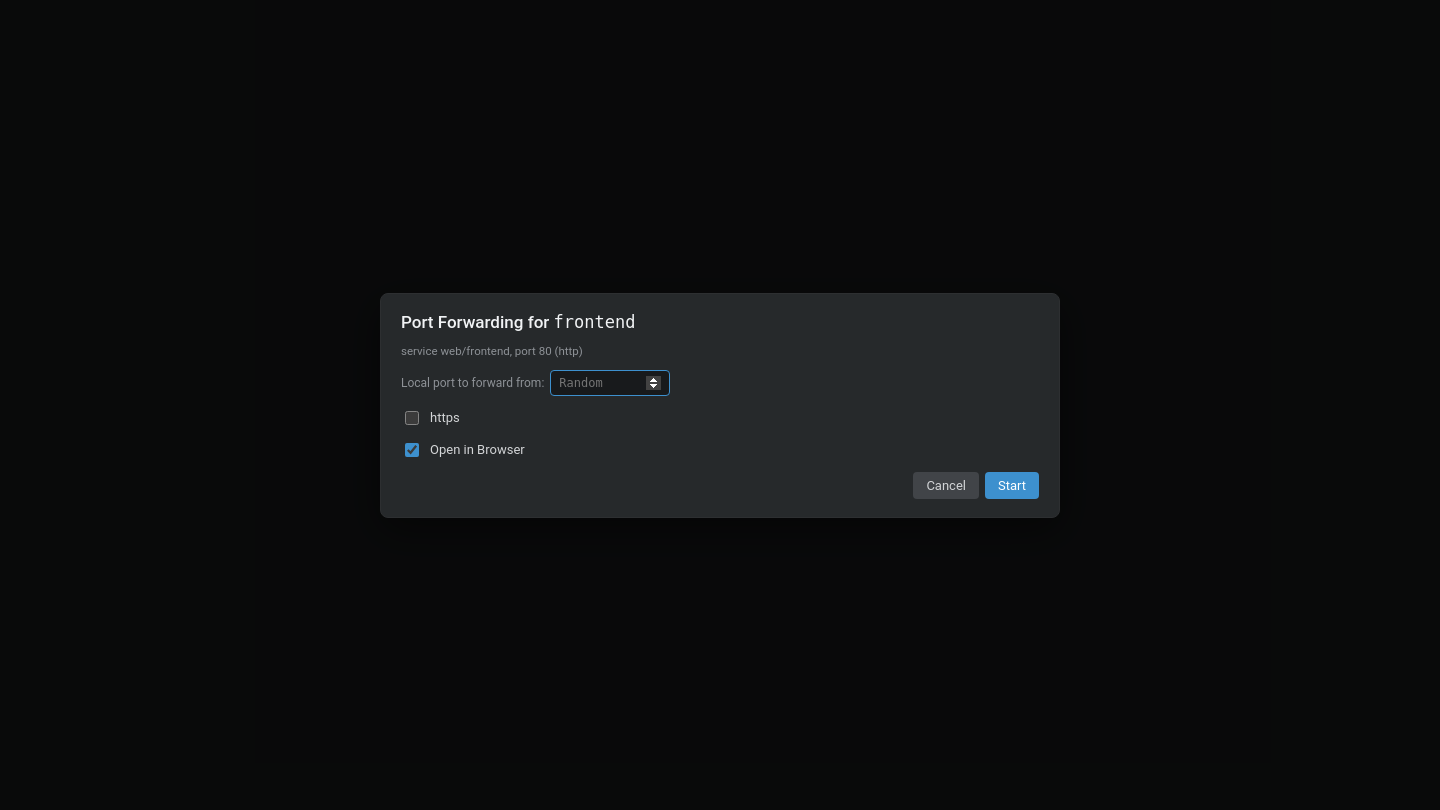
port forward dialog › rejects an invalid port
Type "70000" into the number field with placeholder "Random" at (610, 382), box [550,370,670,396]
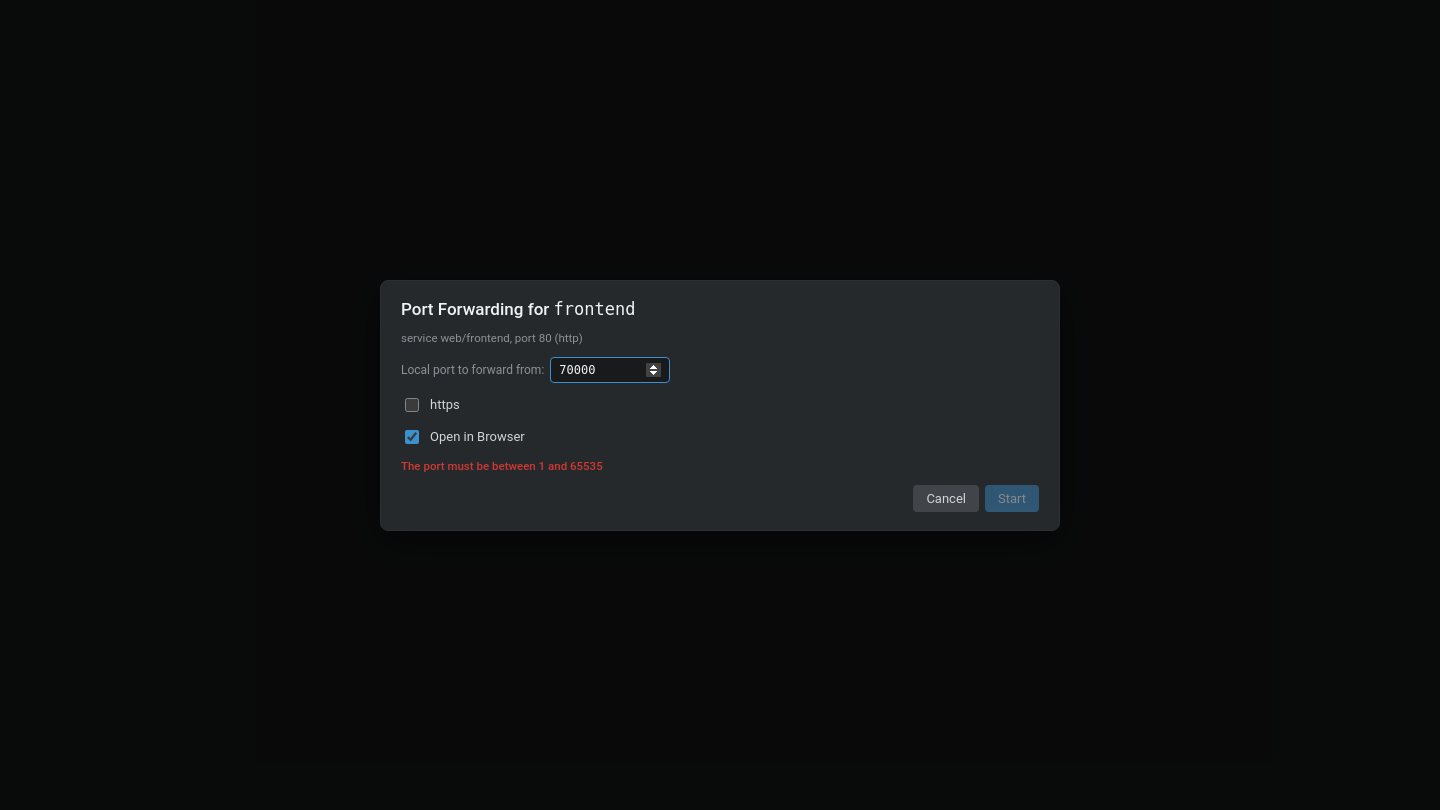
Now the text "The port must be between 1 and 65535" is shown, box [401,458,603,472]
Now the button "Start" is disabled, box [985,484,1039,512]
